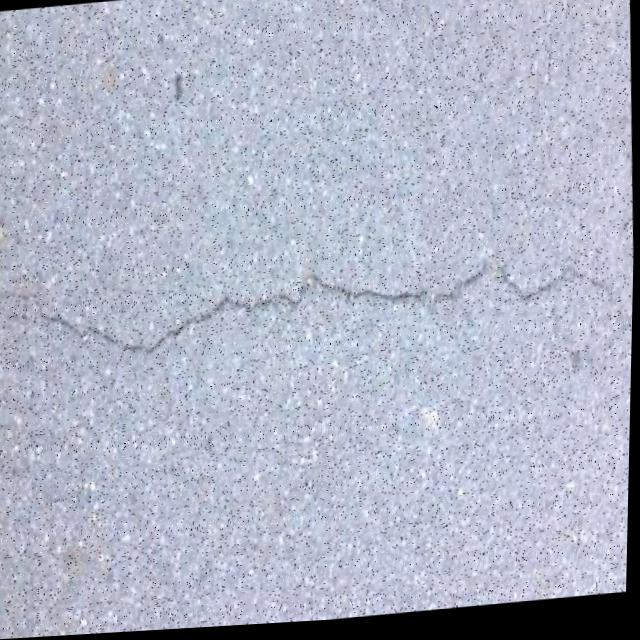Crack: (0, 233, 635, 388)
